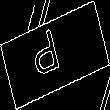P_S: (36, 25, 74, 85)
